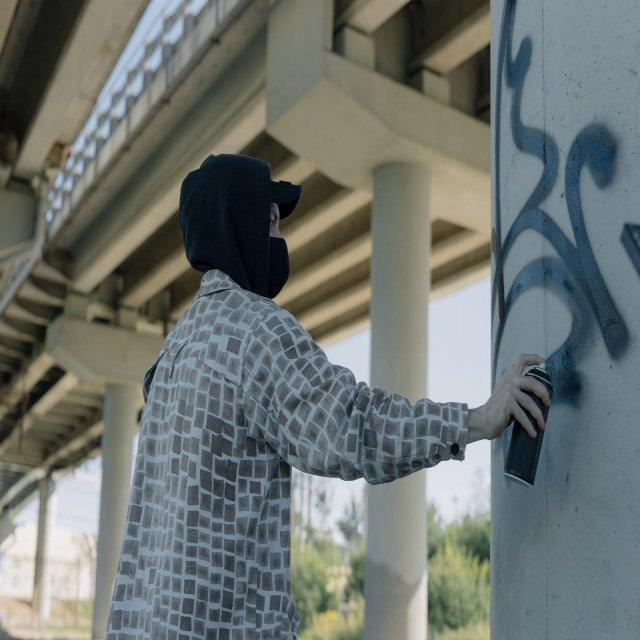nonspitting: (490, 0, 640, 412)
